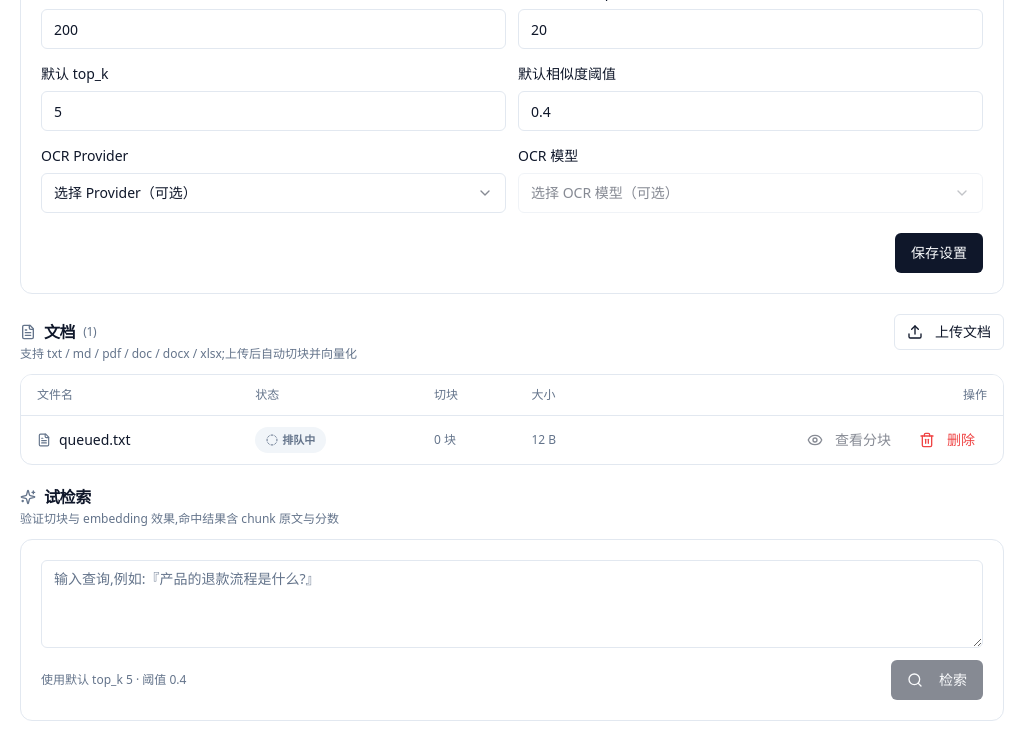
Test: KnowledgeBaseDetailPage › 展示排队中状态并渲染检索策略快照
This screenshot has width=1024, height=741.
(page scrolled)
Expected: the text "排队中" is shown, x1=255 y1=426 x2=326 y2=452
Type "hello" into the text box with placeholder "输入查询,例如:『产品的退款流程是什么?』" at (512, 604), box x1=41 y1=560 x2=983 y2=648
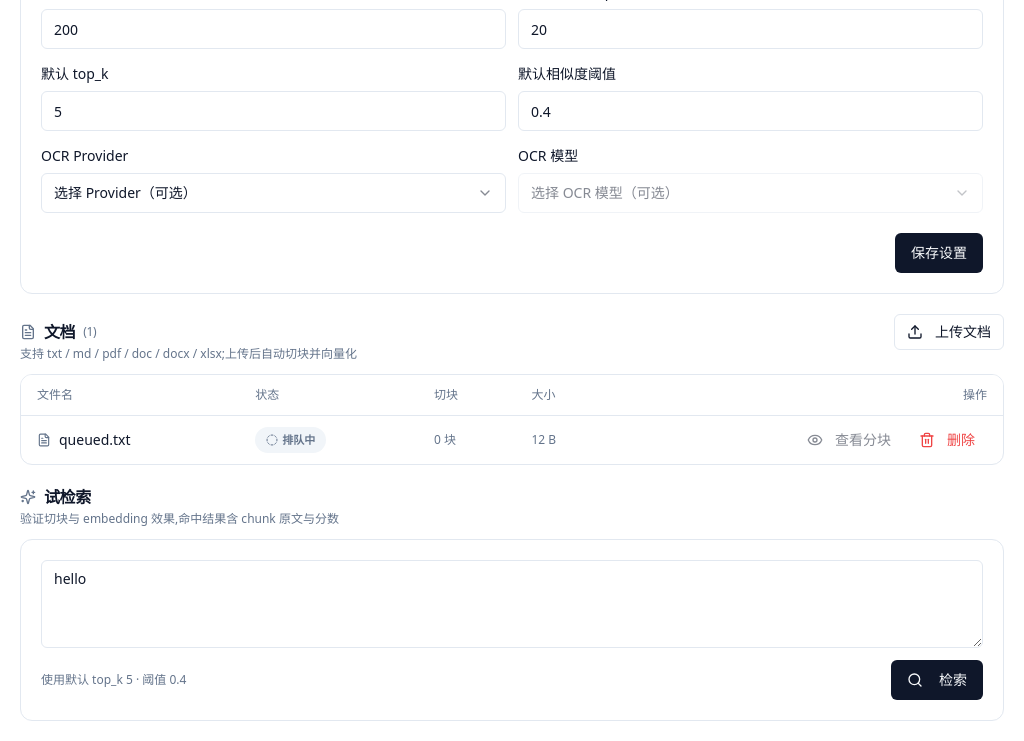
Click the button "检索" at (937, 680), box x1=891 y1=660 x2=983 y2=700
(page scrolled)
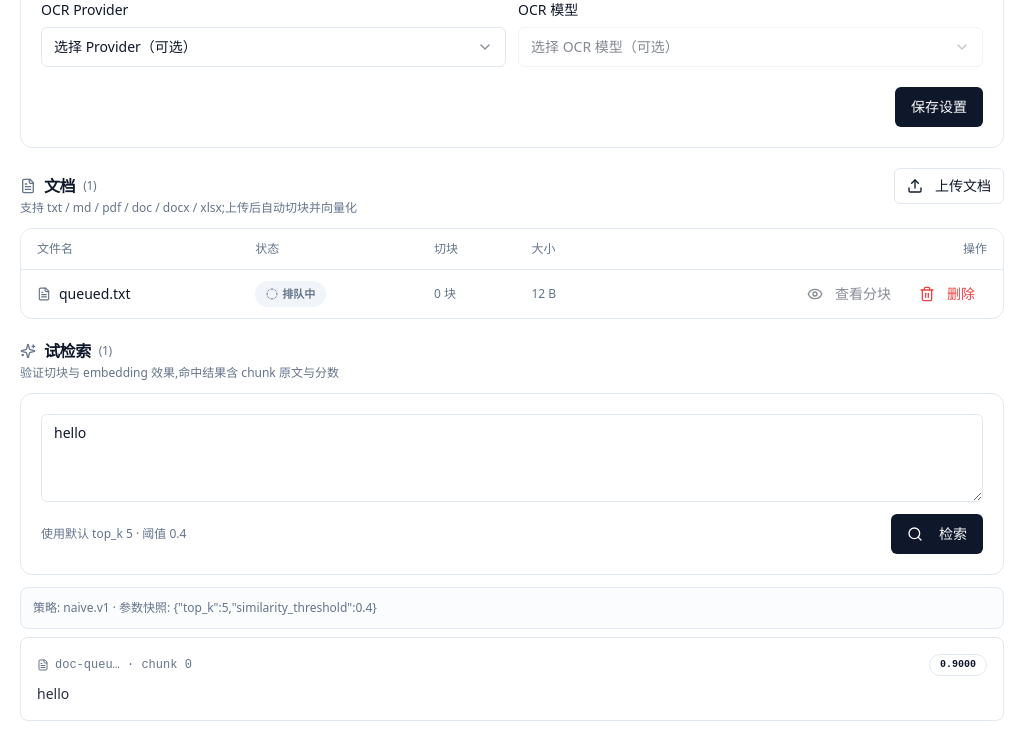
Expected: the text "策略: naive.v1 · 参数快照: {\"top_k\":5,\"similarity_threshold\":0.4}" is shown, x1=20 y1=586 x2=1004 y2=628
